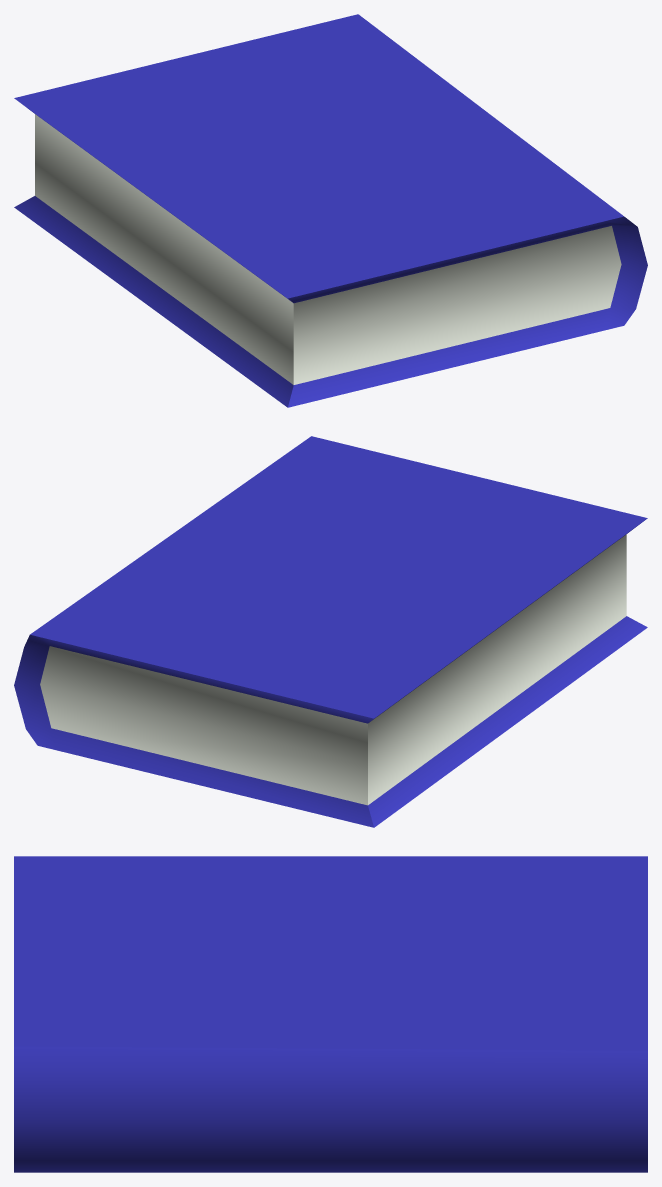
The picture shows the model from 3 angles, top to bottom: view 1: azimuth 30°, elevation 25°; view 2: azimuth 150°, elevation 25°; view 3: azimuth 270°, elevation 25°; orthographic projection. The views are drawn at different scales.
Parts seen in each view (by area): view 1: Cube.001; view 2: Cube.001; view 3: Cube.001.
Part boxes in pixels (box(x1,y1,x2,y2)): Cube.001: box(14, 14, 647, 407); Cube.001: box(14, 436, 647, 827); Cube.001: box(14, 856, 647, 1172).
Size of the model in its own units: 0.2118 by 0.0614 by 0.2789.
